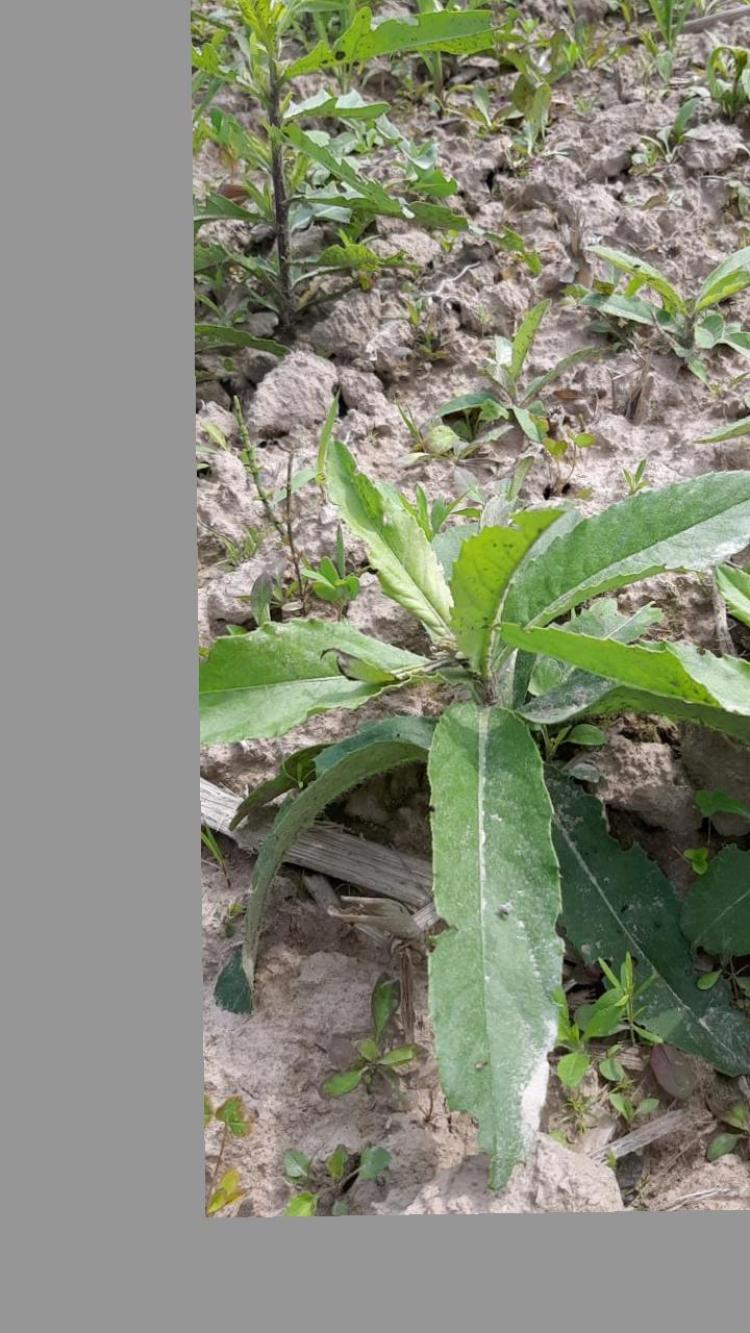osot: (200, 398, 750, 1204)
